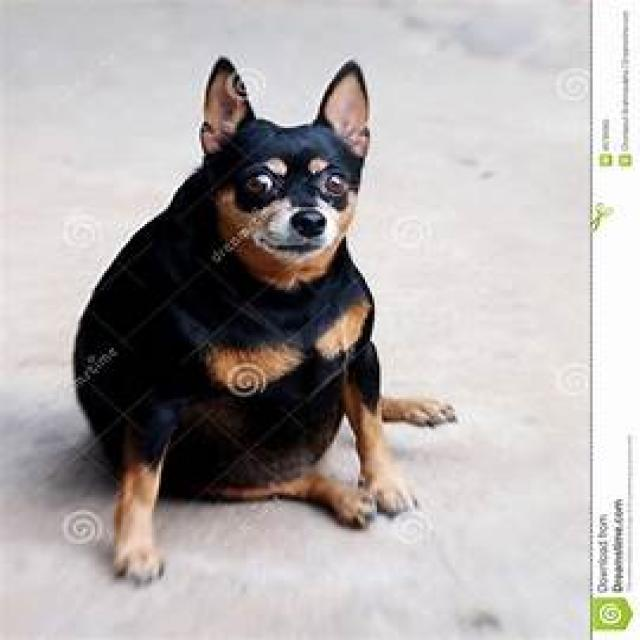dog: (76, 61, 453, 581)
